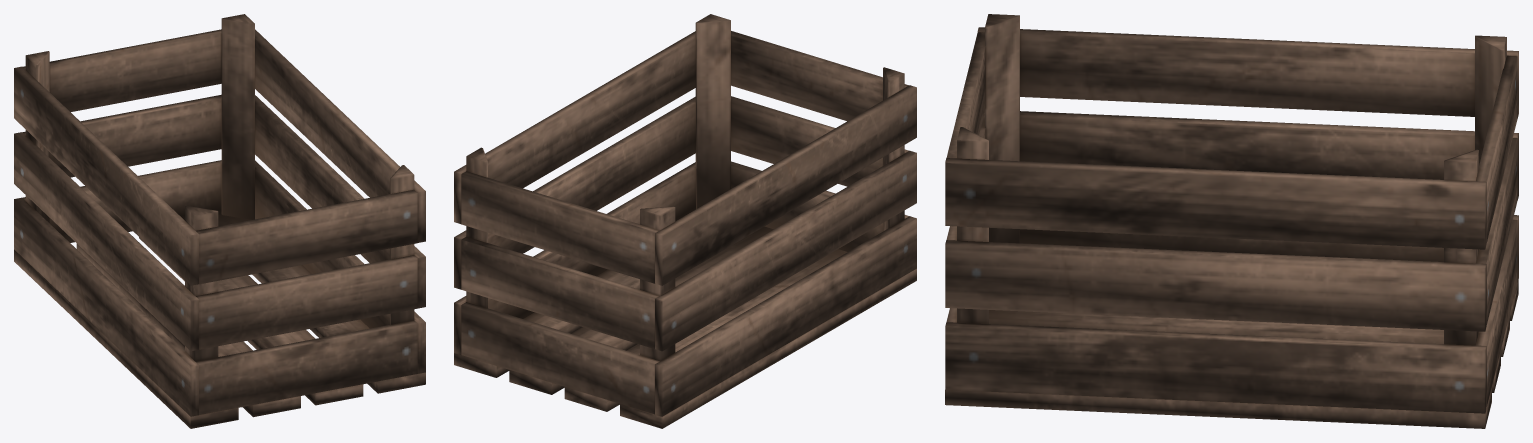
File: market_crate.glb
3 views of the same model, side by side, from view 1: azimuth 30°, elevation 25°; view 2: azimuth 150°, elevation 25°; view 3: azimuth 270°, elevation 25° (orthographic). The views are drawn at different scales.
Visible parts, largest first — view 1: Wooden Crate_Wooden Box_0; view 2: Wooden Crate_Wooden Box_0; view 3: Wooden Crate_Wooden Box_0.
Part boxes in pixels (x1,y1,x2,y2): Wooden Crate_Wooden Box_0: (14, 14, 425, 428); Wooden Crate_Wooden Box_0: (454, 14, 916, 428); Wooden Crate_Wooden Box_0: (945, 14, 1518, 428).
Bounding box in the file's own units: 0.7618 × 0.5809 × 1.16.
1 material, 1 textured.
